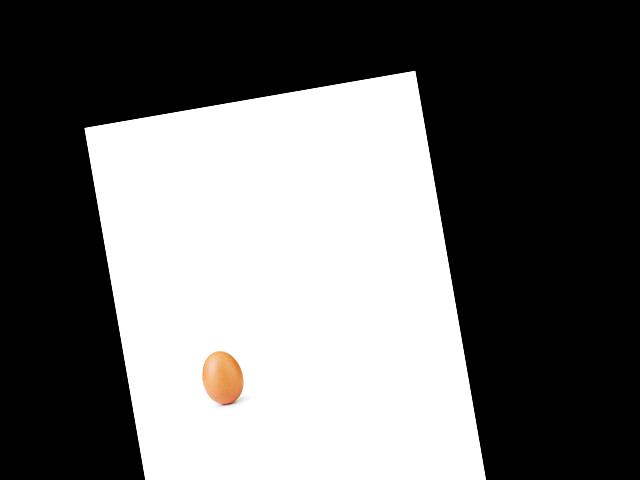egg: (198, 348, 247, 407)
